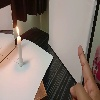fire: (16, 25, 21, 36)
